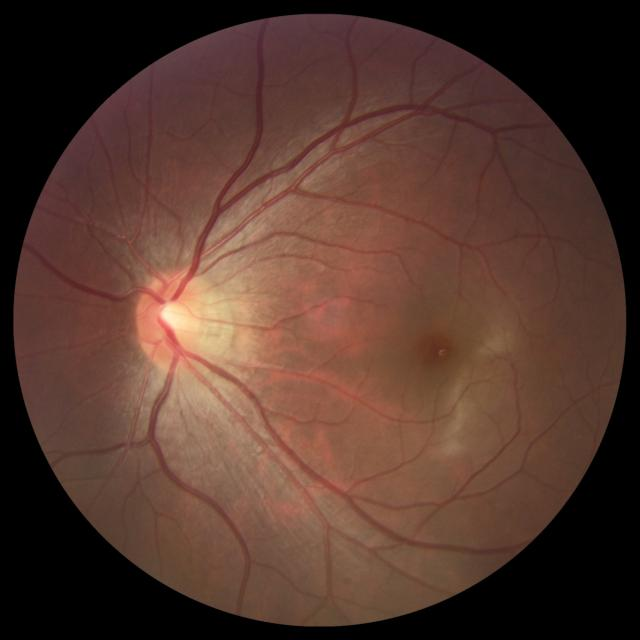OC: (156, 300, 191, 335)
OD: (137, 270, 206, 372)
